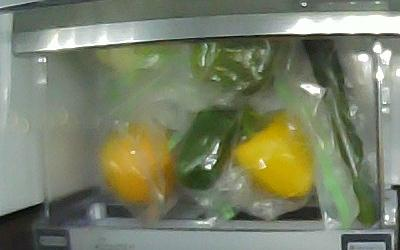broccoli_vinyl: (189, 37, 291, 97)
cucumber_vinyl: (300, 39, 380, 227)
grapefruit_vinyl: (98, 123, 176, 206)
lettuce_vinyl: (95, 43, 176, 78)
paprika_vinyl: (230, 107, 313, 198), (171, 104, 239, 191)
